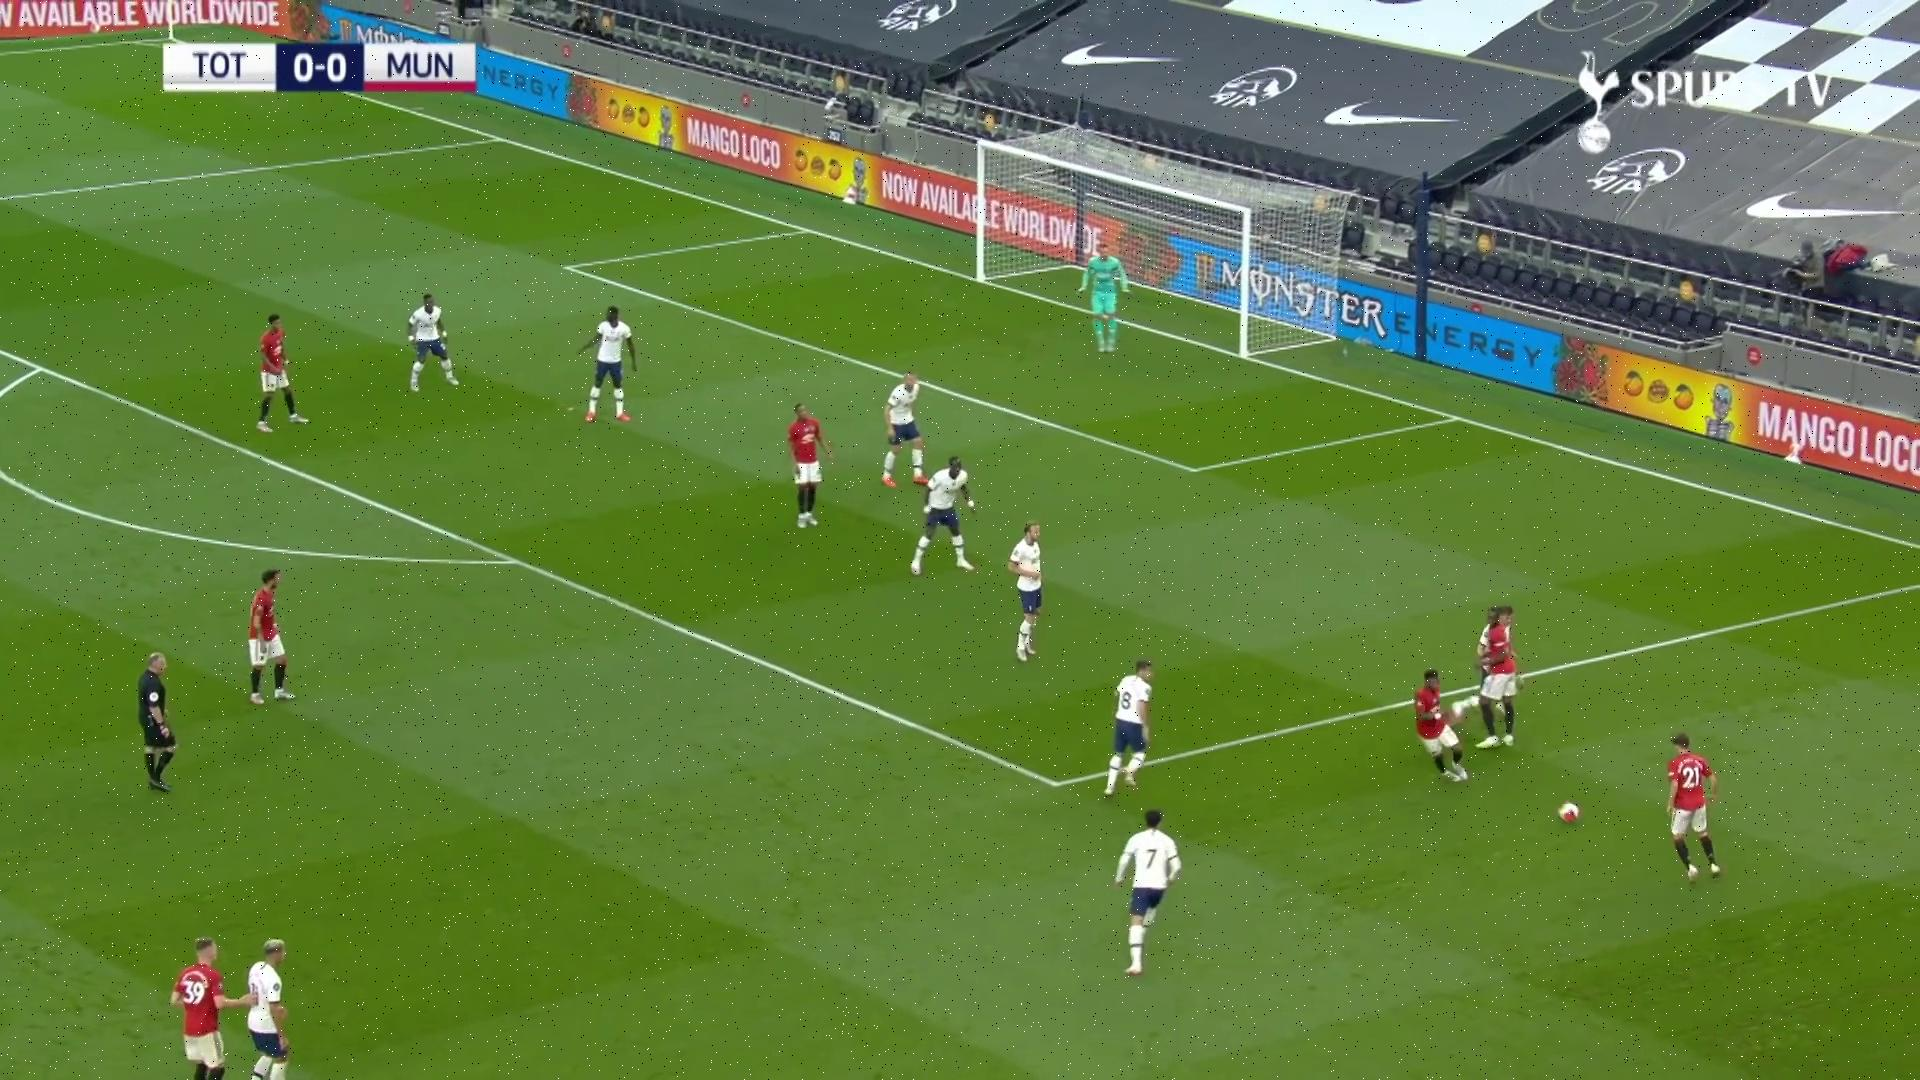ball: (1556, 798, 1581, 824)
